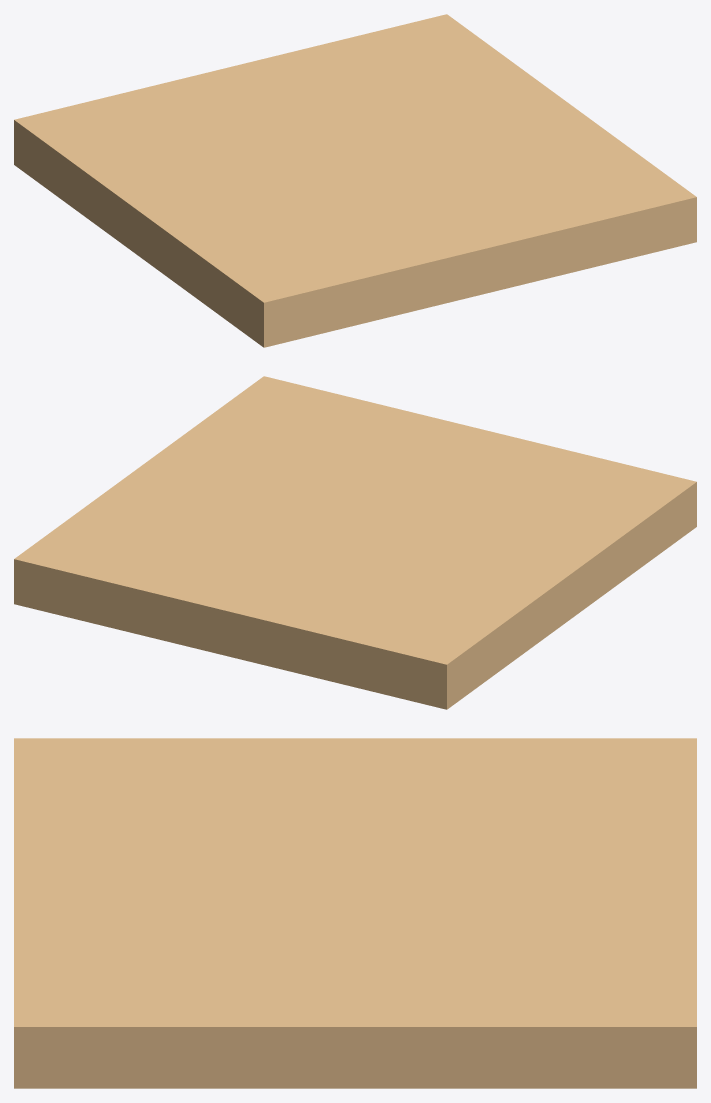
3 views of the same model, one above another, from view 1: azimuth 30°, elevation 25°; view 2: azimuth 150°, elevation 25°; view 3: azimuth 270°, elevation 25° (orthographic). The views are drawn at different scales.
Visible parts, largest first — view 1: Box001; view 2: Box001; view 3: Box001.
Boxes of the visible parts, x1,y1,x2,y2 form: Box001: (14, 14, 696, 347); Box001: (14, 376, 696, 709); Box001: (14, 738, 696, 1088).
Size of the model in its own units: 10000 by 995 by 10000.
